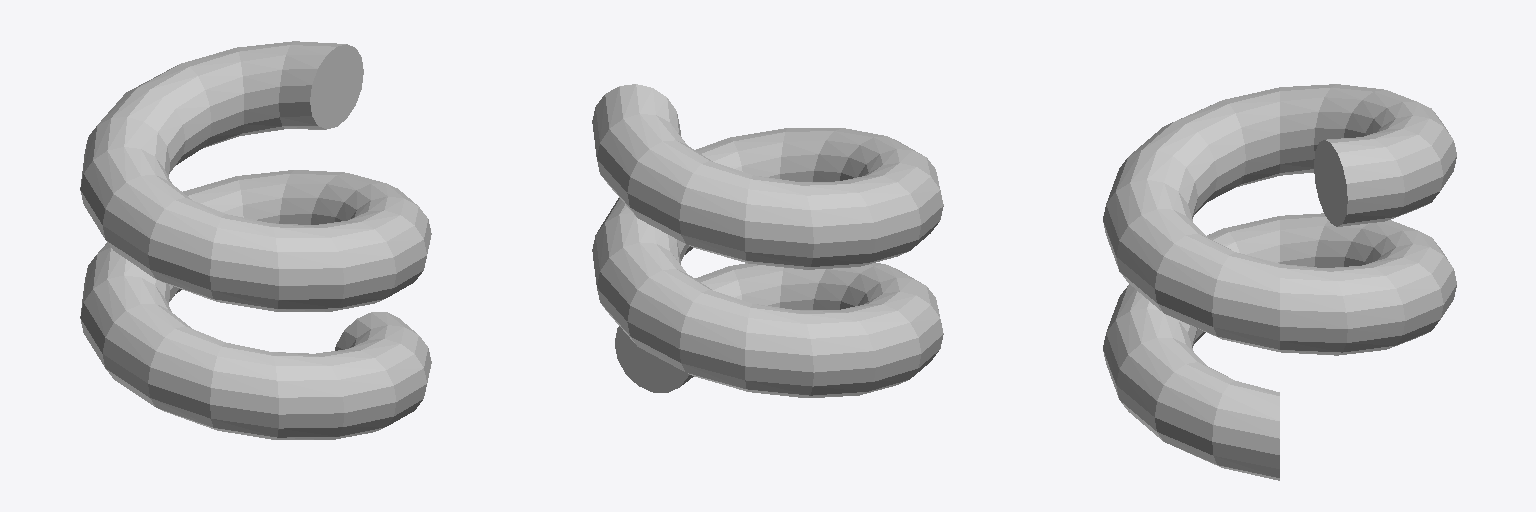
File: wings3dspiral.obj
3 renders of one model, left to right at view 1: azimuth 30°, elevation 25°; view 2: azimuth 150°, elevation 25°; view 3: azimuth 270°, elevation 25°, orthographic.
Visible parts, largest first — view 1: spring1; view 2: spring1; view 3: spring1.
Boxes of the visible parts, x1=… form: spring1: x1=80, y1=41, x2=431, y2=439; spring1: x1=592, y1=84, x2=943, y2=397; spring1: x1=1103, y1=84, x2=1456, y2=480.
Size of the model in its own units: 2 by 2.05 by 2.